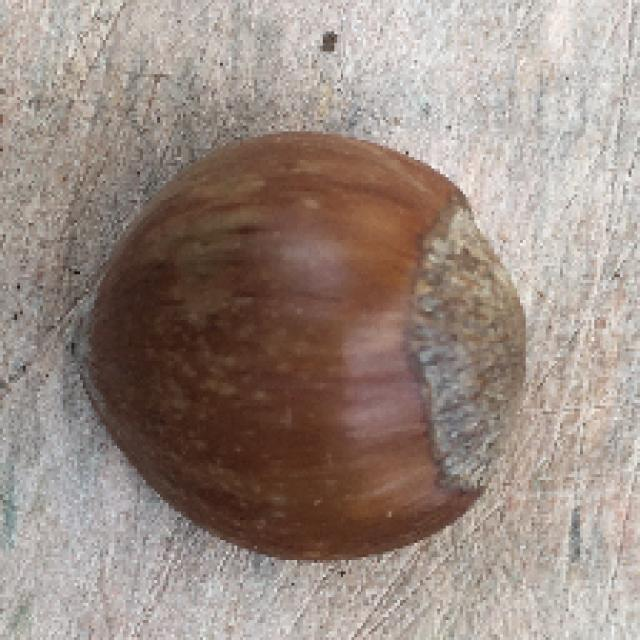qualityHazelnut: (68, 134, 544, 560)
